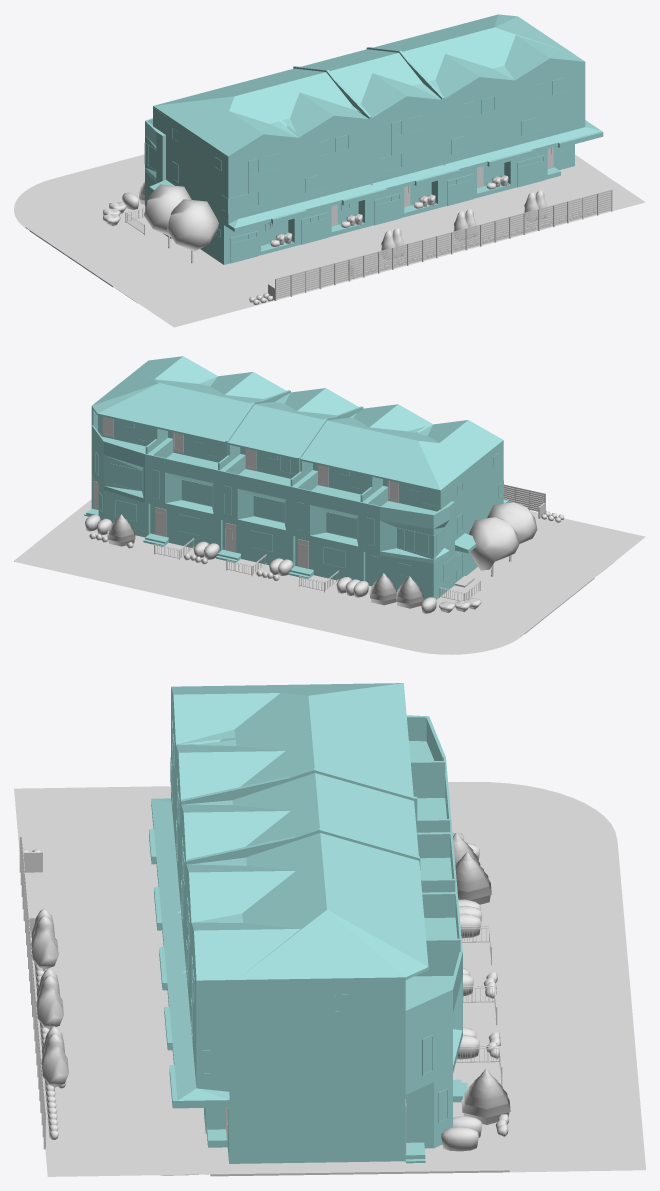
Rendered from windsor_cyan.glb.
3 renders of one model, top to bottom at view 1: azimuth 30°, elevation 25°; view 2: azimuth 150°, elevation 25°; view 3: azimuth 270°, elevation 25°, orthographic. The views are drawn at different scales.
Parts seen in each view (by area): view 1: Geom3D_ (×16), Geom3D_Component#75 (×5), Geom3D_wood board#2 (×10), Geom3D_SITE CONTEXT#5, Geom3D_Deciduous Tree 030: Elm (×2), Geom3D_Component#76, Geom3D_Component#79; view 2: Geom3D_ (×14), Geom3D_Component#75 (×5), Geom3D_SITE CONTEXT#5, Geom3D_Deciduous Tree 030: Elm (×2), Geom3D_Coniferous Tree 002: Fir (×3), Geom3D_Component#76, Geom3D_Component#79; view 3: Geom3D_ (×10), Geom3D_Component#75 (×5), Geom3D_Coniferous Tree 015: Spruce (×3), Geom3D_Coniferous Tree 002: Fir (×2), Geom3D_Component#76, Geom3D_Component#79, Geom3D_SITE CONTEXT#5, Geom3D_Bush 007: Tiny.
Part boxes in pixels (left/top/right/bottom): Geom3D_ (×16): left=14, top=14, right=645, bottom=327; Geom3D_Component#75 (×5): left=192, top=35, right=585, bottom=158; Geom3D_wood board#2 (×10): left=275, top=189, right=611, bottom=298; Geom3D_SITE CONTEXT#5: left=43, top=197, right=181, bottom=281; Geom3D_Deciduous Tree 030: Elm (×2): left=144, top=184, right=218, bottom=263; Geom3D_Component#76: left=293, top=66, right=371, bottom=227; Geom3D_Component#79: left=366, top=47, right=444, bottom=208; Geom3D_ (×14): left=14, top=369, right=645, bottom=654; Geom3D_Component#75 (×5): left=138, top=356, right=503, bottom=465; Geom3D_SITE CONTEXT#5: left=382, top=558, right=576, bottom=632; Geom3D_Deciduous Tree 030: Elm (×2): left=468, top=502, right=537, bottom=576; Geom3D_Coniferous Tree 002: Fir (×3): left=107, top=514, right=423, bottom=608; Geom3D_Component#76: left=287, top=406, right=363, bottom=567; Geom3D_Component#79: left=215, top=390, right=290, bottom=550; Geom3D_ (×10): left=14, top=683, right=645, bottom=1176; Geom3D_Component#75 (×5): left=171, top=685, right=308, bottom=983; Geom3D_Coniferous Tree 015: Spruce (×3): left=32, top=915, right=68, bottom=1091; Geom3D_Coniferous Tree 002: Fir (×2): left=455, top=851, right=510, bottom=1124; Geom3D_Component#76: left=181, top=768, right=452, bottom=911; Geom3D_Component#79: left=186, top=828, right=457, bottom=917; Geom3D_SITE CONTEXT#5: left=449, top=796, right=483, bottom=868; Geom3D_Bush 007: Tiny: left=441, top=1126, right=478, bottom=1151.
Size of the model in its own units: 43.54 by 11.28 by 29.43.
